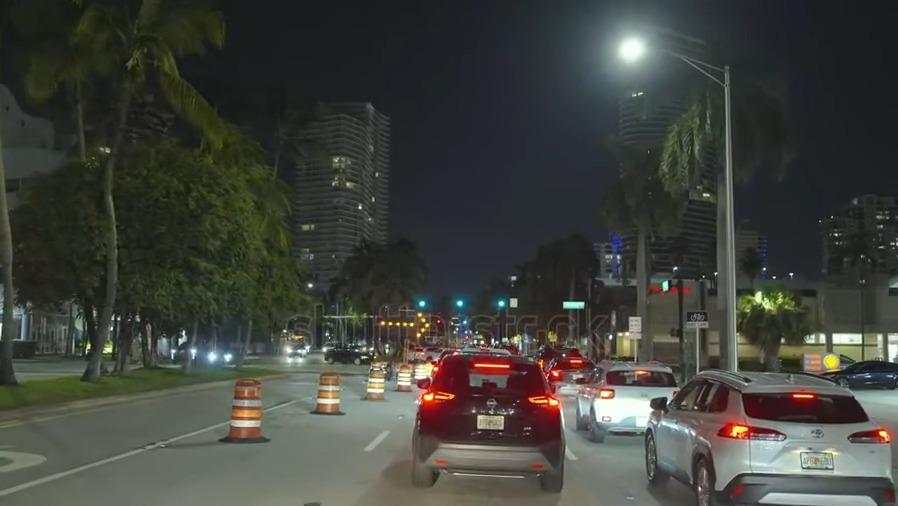arrow traffic sign: (379, 309, 431, 341)
car: (647, 365, 894, 506), (409, 352, 565, 490), (573, 363, 677, 432), (825, 356, 898, 391), (545, 355, 600, 396), (321, 341, 372, 367), (169, 340, 209, 364), (207, 345, 243, 366), (404, 343, 439, 363), (289, 345, 311, 359)
cone: (232, 377, 264, 444), (317, 369, 340, 412), (367, 366, 382, 399), (412, 359, 427, 381), (397, 363, 408, 391)
traffic light: (494, 294, 511, 315), (453, 295, 470, 315), (413, 295, 431, 313)
wheel: (640, 427, 666, 485), (690, 455, 717, 506)
